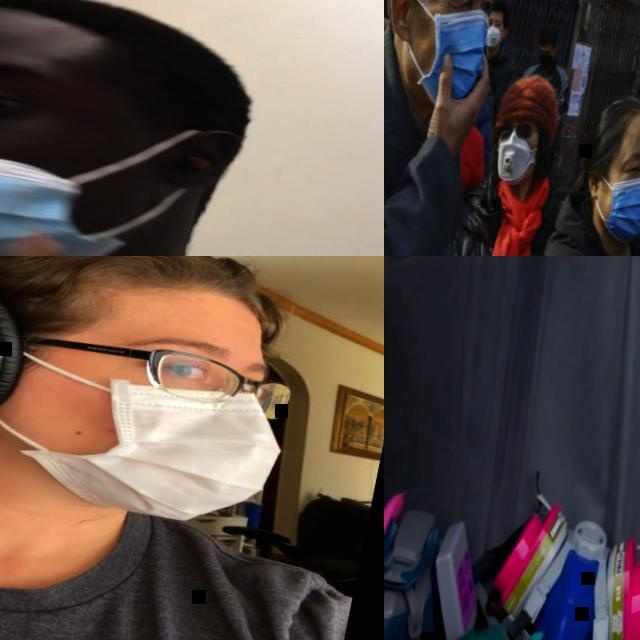Mask: (0, 345, 294, 546), (0, 72, 239, 256), (477, 491, 640, 640), (384, 479, 502, 640), (412, 2, 495, 120), (599, 168, 640, 251), (490, 131, 539, 191), (483, 25, 504, 52), (537, 52, 554, 71)
NO-Hardhat: (0, 256, 277, 366), (0, 0, 255, 94), (496, 70, 567, 136), (589, 92, 640, 165), (537, 21, 561, 46), (490, 0, 512, 17), (384, 14, 390, 55)
NO-Safety Vest: (0, 447, 346, 640), (384, 58, 513, 256), (426, 173, 576, 256), (478, 62, 509, 111)
Person: (0, 256, 384, 640), (0, 0, 384, 256), (633, 40, 640, 105)
